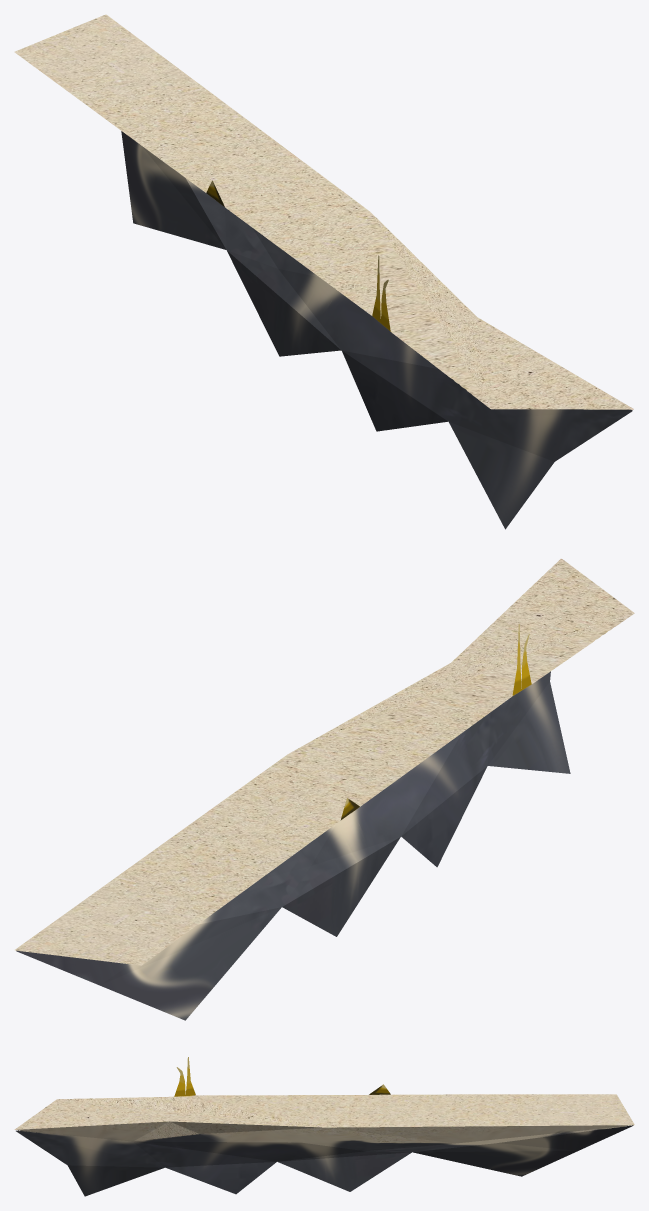
File: Floating platform.fbx
3 renders of one model, top to bottom at view 1: azimuth 30°, elevation 25°; view 2: azimuth 150°, elevation 25°; view 3: azimuth 270°, elevation 25°, orthographic. The views are drawn at different scales.
Visible parts, largest first — view 1: Cube; view 2: Cube; view 3: Cube.
Part boxes in pixels (bbox=[...]): Cube: bbox=[14, 14, 633, 529]; Cube: bbox=[15, 558, 634, 1020]; Cube: bbox=[14, 1057, 634, 1196].
Bounding box in the file's own units: 200 × 412 × 1700.
